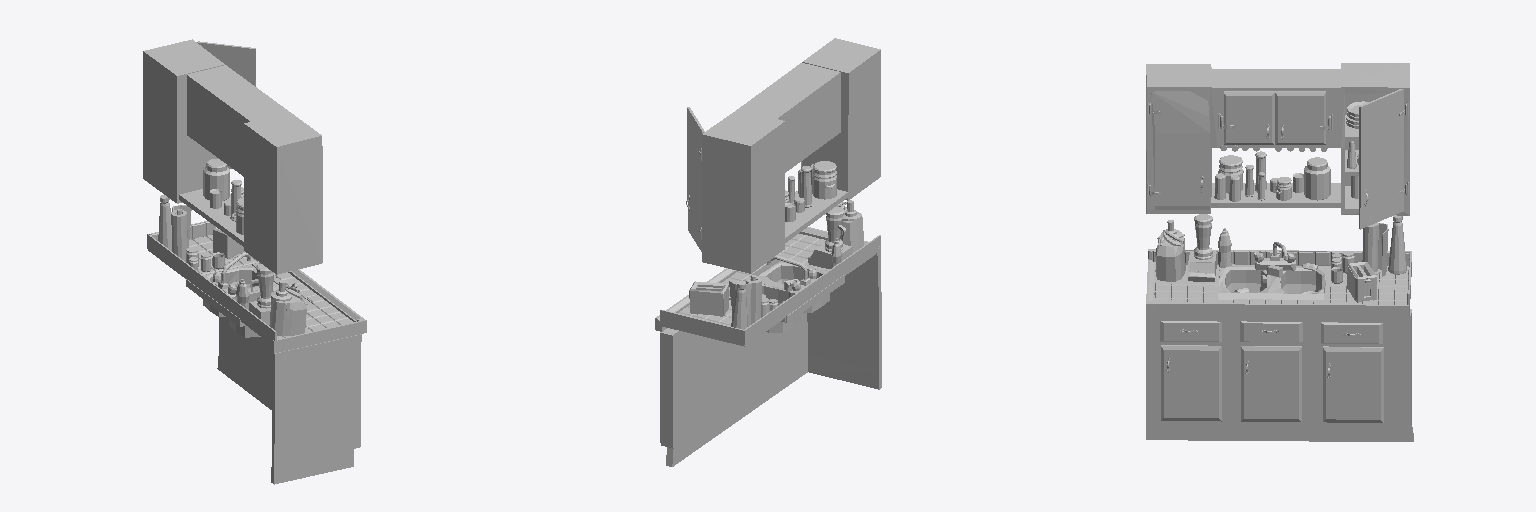
3 views of the same model, side by side, from view 1: azimuth 30°, elevation 25°; view 2: azimuth 150°, elevation 25°; view 3: azimuth 270°, elevation 25° (orthographic).
Parts seen in each view (by area): view 1: group[number redacted], group[number redacted], group[number redacted], group[number redacted], group[number redacted], group[number redacted], group[number redacted], group[number redacted], group[number redacted], group[number redacted], group[number redacted], group[number redacted] (+7 smaller); view 2: group[number redacted], group[number redacted], group[number redacted], group[number redacted], group[number redacted], group[number redacted], group[number redacted], group[number redacted], group[number redacted], group[number redacted], group[number redacted], group[number redacted] (+8 smaller); view 3: group[number redacted], group[number redacted], group[number redacted], group[number redacted], group[number redacted], group[number redacted], group[number redacted], group[number redacted], group[number redacted], group[number redacted], group[number redacted], group[number redacted] (+11 smaller).
Part boxes in pixels (left/top/right/bottom): group[number redacted]: left=217, top=317, right=361, bottom=484; group[number redacted]: left=244, top=112, right=322, bottom=274; group[number redacted]: left=143, top=39, right=224, bottom=203; group[number redacted]: left=187, top=65, right=288, bottom=176; group[number redacted]: left=269, top=280, right=306, bottom=335; group[number redacted]: left=197, top=41, right=255, bottom=168; group[number redacted]: left=271, top=321, right=360, bottom=353; group[number redacted]: left=179, top=189, right=243, bottom=246; group[number redacted]: left=241, top=301, right=352, bottom=343; group[number redacted]: left=249, top=264, right=273, bottom=324; group[number redacted]: left=171, top=205, right=191, bottom=261; group[number redacted]: left=203, top=159, right=229, bottom=200; group[number redacted]: left=660, top=258, right=881, bottom=466; group[number redacted]: left=702, top=109, right=784, bottom=273; group[number redacted]: left=801, top=38, right=880, bottom=200; group[number redacted]: left=738, top=63, right=840, bottom=172; group[number redacted]: left=686, top=107, right=704, bottom=251; group[number redacted]: left=660, top=310, right=742, bottom=344; group[number redacted]: left=689, top=281, right=728, bottom=316; group[number redacted]: left=807, top=207, right=852, bottom=268; group[number redacted]: left=785, top=189, right=847, bottom=242; group[number redacted]: left=757, top=261, right=829, bottom=312; group[number redacted]: left=812, top=161, right=836, bottom=199; group[number redacted]: left=778, top=234, right=875, bottom=275; group[number redacted]: left=1146, top=272, right=1413, bottom=441; group[number redacted]: left=1146, top=64, right=1211, bottom=213; group[number redacted]: left=1359, top=89, right=1404, bottom=229; group[number redacted]: left=1210, top=69, right=1344, bottom=151; group[number redacted]: left=1341, top=63, right=1409, bottom=215; group[number redacted]: left=1153, top=303, right=1409, bottom=317; group[number redacted]: left=1275, top=91, right=1325, bottom=144; group[number redacted]: left=1224, top=91, right=1274, bottom=144; group[number redacted]: left=1211, top=183, right=1340, bottom=207; group[number redacted]: left=1154, top=265, right=1219, bottom=302; group[number redacted]: left=1188, top=214, right=1216, bottom=281; group[number redacted]: left=1155, top=220, right=1185, bottom=281.
Bounding box in the file's own units: 0.8223 × 2.77 × 1.99.